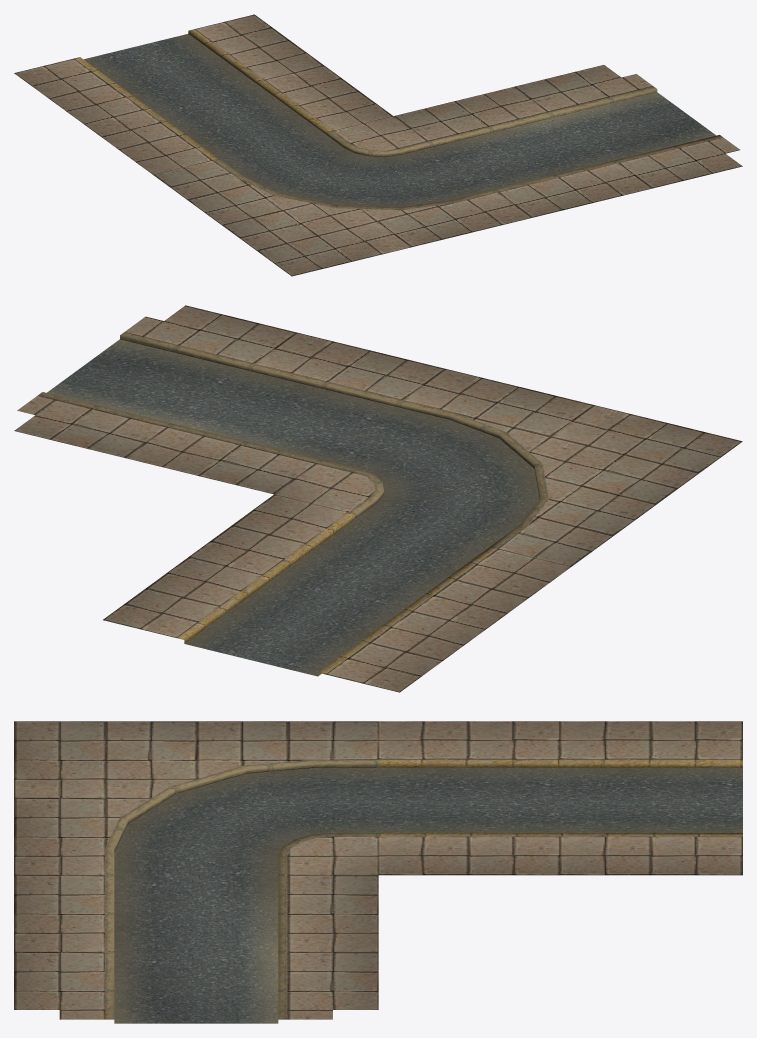
File: M11Z1_TunnelRoad.glb
3 renders of one model, top to bottom at view 1: azimuth 30°, elevation 25°; view 2: azimuth 150°, elevation 25°; view 3: azimuth 270°, elevation 25°, orthographic. The views are drawn at different scales.
Parts seen in each view (by area): view 1: M11Z1_TUNNELROAD002, M11Z1_TUNNELROAD, M11Z1_TUNNELROAD001; view 2: M11Z1_TUNNELROAD, M11Z1_TUNNELROAD002, M11Z1_TUNNELROAD001; view 3: M11Z1_TUNNELROAD, M11Z1_TUNNELROAD002, M11Z1_TUNNELROAD001.
Boxes of the visible parts, x1,y1,x2,y2 form: M11Z1_TUNNELROAD002: [14, 14, 392, 174]; M11Z1_TUNNELROAD: [153, 116, 531, 276]; M11Z1_TUNNELROAD001: [394, 65, 742, 217]; M11Z1_TUNNELROAD: [274, 369, 742, 566]; M11Z1_TUNNELROAD002: [103, 494, 570, 692]; M11Z1_TUNNELROAD001: [14, 305, 445, 494]; M11Z1_TUNNELROAD: [14, 721, 378, 879]; M11Z1_TUNNELROAD002: [378, 721, 742, 875]; M11Z1_TUNNELROAD001: [14, 875, 378, 1023].
Size of the model in its own units: 15.5 by 0.1 by 16.
Materials: 4 (4 with a texture image).
